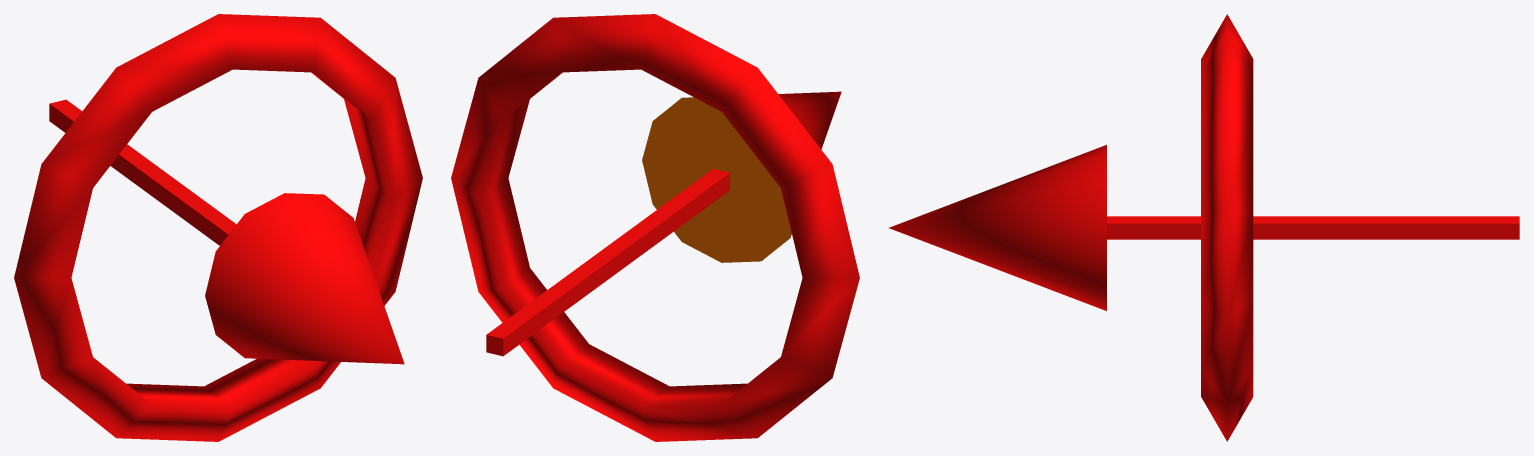
File: arrow.FBX
3 renders of one model, left to right at view 1: azimuth 30°, elevation 25°; view 2: azimuth 150°, elevation 25°; view 3: azimuth 270°, elevation 25°, orthographic. The views are drawn at different scales.
Visible parts, largest first — view 1: Box001; view 2: Box001; view 3: Box001.
Part boxes in pixels (box(x1,y1,x2,y2)): Box001: box(14, 14, 422, 441); Box001: box(451, 14, 859, 441); Box001: box(889, 14, 1519, 441).
Size of the model in its own units: 170 by 250 by 170.
